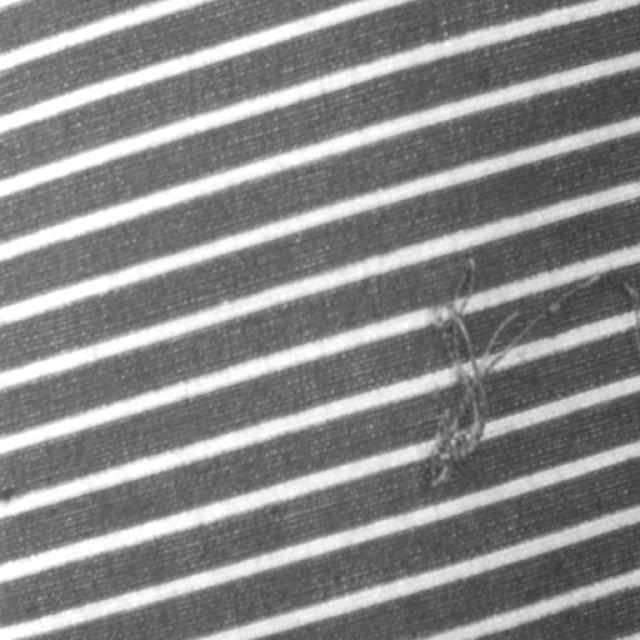Foreign-Body-Defect: (421, 258, 639, 486)
